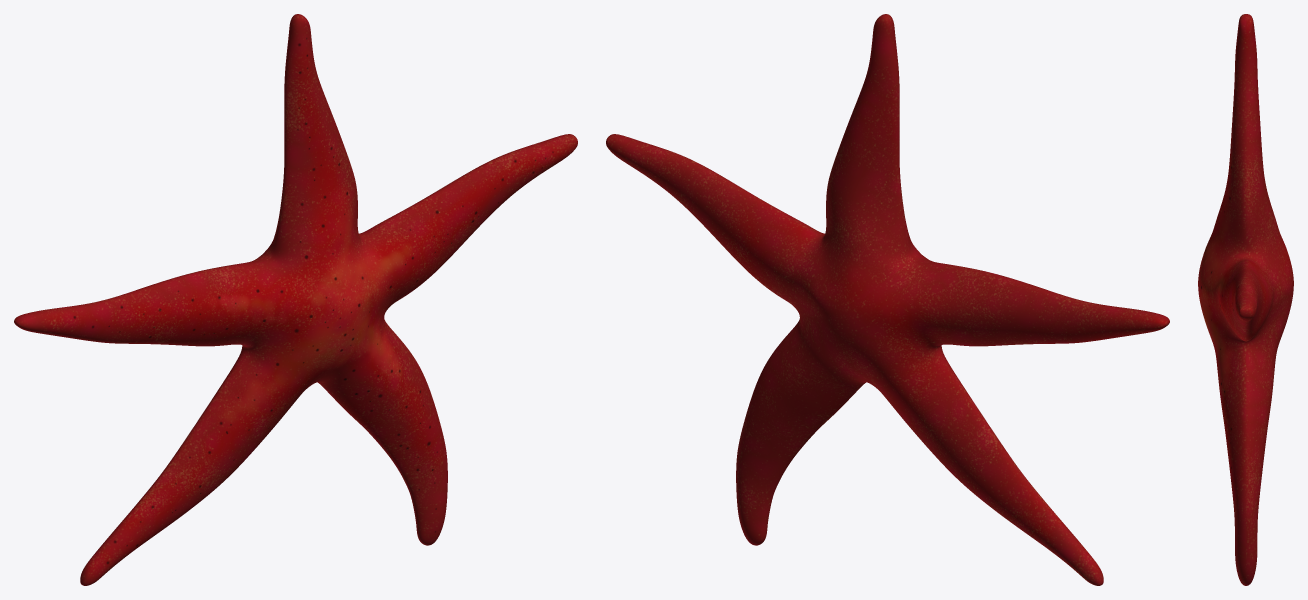
File: seastar.glb
The picture shows the model from 3 angles, left to right: view 1: azimuth 30°, elevation 25°; view 2: azimuth 150°, elevation 25°; view 3: azimuth 270°, elevation 25°; orthographic projection. The views are drawn at different scales.
Parts seen in each view (by area): view 1: pDisc1; view 2: pDisc1; view 3: pDisc1.
Boxes of the visible parts, left/top/right/bottom form: pDisc1: left=14, top=14, right=577, bottom=585; pDisc1: left=606, top=14, right=1169, bottom=585; pDisc1: left=1198, top=14, right=1293, bottom=585.
Bounding box in the file's own units: 0.1207 × 0.1156 × 0.0196.
Materials: 1 (1 with a texture image).
